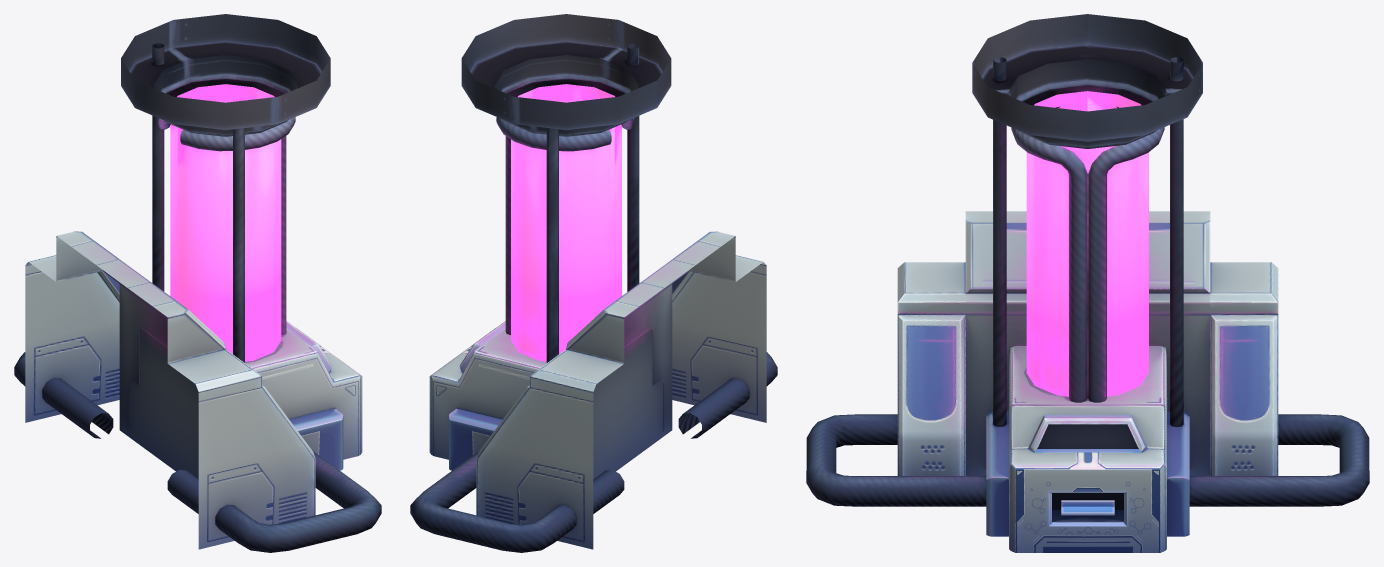
File: DIstribuidor.fbx
3 renders of one model, left to right at view 1: azimuth 30°, elevation 25°; view 2: azimuth 150°, elevation 25°; view 3: azimuth 270°, elevation 25°, orthographic. The views are drawn at different scales.
Visible parts, largest first — view 1: maquina; view 2: maquina; view 3: maquina.
Boxes of the visible parts, bbox=[...] form: maquina: bbox=[14, 14, 381, 552]; maquina: bbox=[410, 14, 777, 552]; maquina: bbox=[806, 14, 1369, 552].
Bounding box in the file's own units: 349 × 614 × 711.
Materials: 1 (1 with a texture image).
